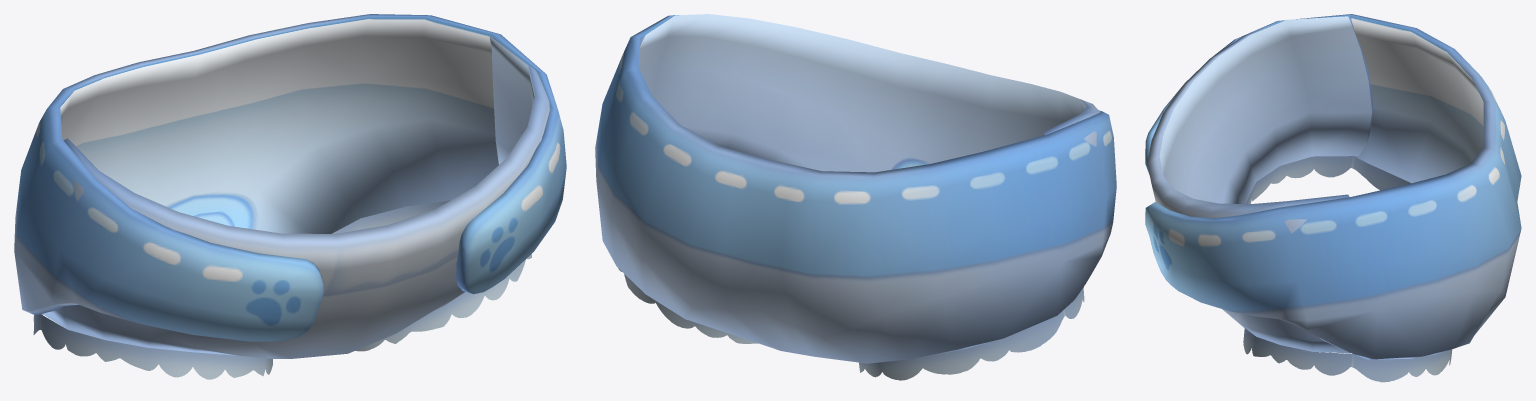
Rendered from 照顾JOJO-角色-JOJO尿布.FBX.
3 views of the same model, side by side, from view 1: azimuth 30°, elevation 25°; view 2: azimuth 150°, elevation 25°; view 3: azimuth 270°, elevation 25° (orthographic). The views are drawn at different scales.
Visible parts, largest first — view 1: 照顾JOJO-角色-JOJO尿布; view 2: 照顾JOJO-角色-JOJO尿布; view 3: 照顾JOJO-角色-JOJO尿布.
Boxes of the visible parts, box(x1,y1,x2,y2) form: 照顾JOJO-角色-JOJO尿布: box(14, 14, 566, 379); 照顾JOJO-角色-JOJO尿布: box(595, 14, 1116, 380); 照顾JOJO-角色-JOJO尿布: box(1145, 14, 1521, 382).
Size of the model in its own units: 18.73 by 9.7 by 14.11.
Materials: 2 (2 with a texture image).
